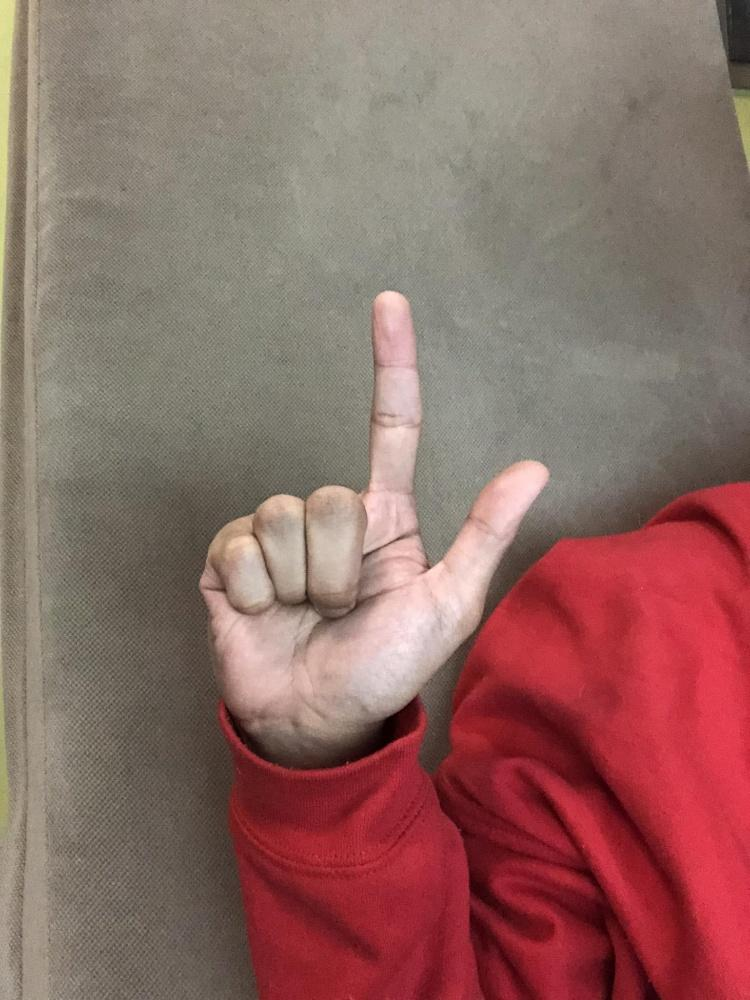l: (194, 286, 552, 740)
